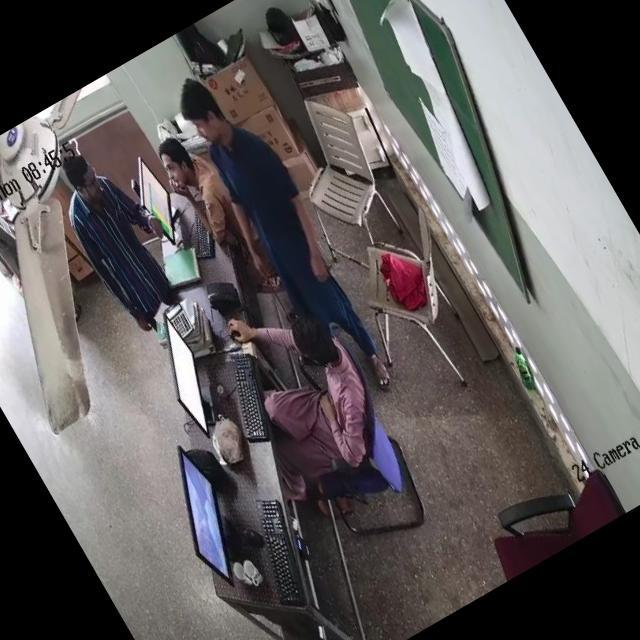person: (180, 71, 378, 360), (244, 305, 391, 470), (51, 153, 174, 320), (157, 137, 254, 267)
